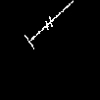treble_crochet: (25, 1, 72, 48)
